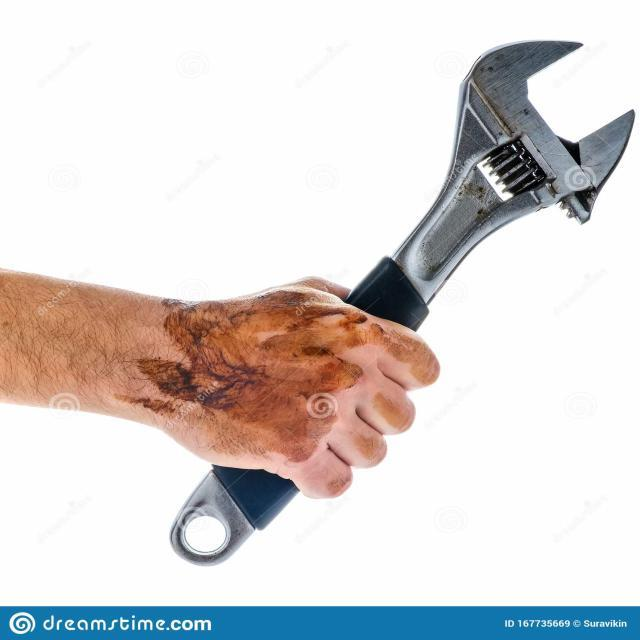wrench: (165, 38, 638, 568)
